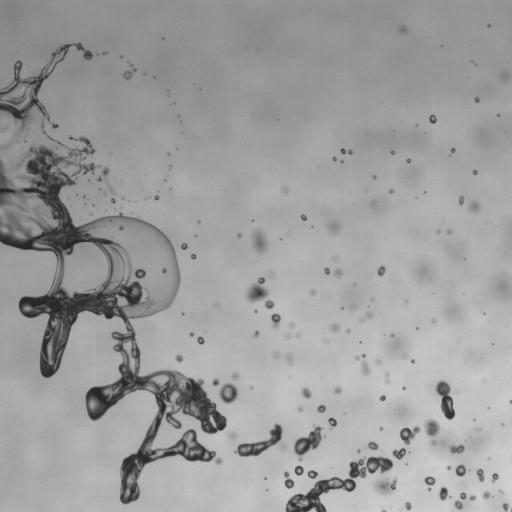droplet: (0, 42, 92, 147), (373, 477, 396, 495), (251, 228, 267, 252), (400, 426, 420, 445), (219, 383, 237, 403), (424, 418, 439, 437), (327, 220, 340, 234), (438, 486, 450, 500), (270, 313, 281, 328), (392, 448, 407, 459), (424, 476, 435, 490), (449, 444, 465, 453), (455, 464, 467, 476), (123, 68, 136, 79), (468, 201, 480, 212), (361, 361, 370, 375), (301, 387, 311, 398), (367, 441, 378, 450), (476, 469, 484, 481), (328, 418, 337, 428), (294, 465, 303, 475), (307, 470, 318, 478), (285, 353, 292, 365), (333, 268, 342, 277), (265, 300, 274, 309), (330, 323, 339, 332), (227, 431, 236, 440), (502, 502, 511, 511), (377, 266, 385, 276), (317, 404, 326, 412), (500, 72, 508, 80), (196, 336, 204, 344), (175, 354, 183, 362), (483, 491, 491, 499), (429, 114, 436, 123), (399, 26, 407, 33), (212, 378, 219, 386), (458, 196, 464, 205), (492, 473, 498, 482), (334, 386, 341, 393), (282, 186, 288, 194), (405, 502, 411, 510), (324, 267, 330, 274), (232, 372, 238, 379), (340, 148, 346, 154), (181, 243, 187, 249), (289, 322, 295, 328), (253, 331, 259, 337), (285, 333, 291, 339), (301, 214, 306, 220), (332, 255, 338, 260), (380, 395, 385, 401), (430, 440, 436, 445), (110, 198, 115, 203), (191, 254, 196, 259), (310, 290, 315, 295), (273, 352, 278, 357), (298, 406, 303, 411), (475, 97, 479, 102), (348, 149, 352, 154), (451, 148, 455, 153), (154, 195, 159, 199), (446, 230, 451, 234), (432, 318, 436, 323), (295, 333, 300, 337), (323, 338, 328, 342), (375, 360, 380, 364), (390, 150, 394, 154), (406, 158, 410, 162), (473, 170, 477, 174), (389, 189, 393, 193), (237, 233, 241, 237), (189, 332, 193, 336), (446, 466, 450, 470), (381, 508, 386, 511), (332, 157, 336, 160), (373, 175, 376, 179), (346, 329, 350, 332), (379, 427, 383, 430), (357, 448, 360, 452), (463, 484, 466, 488), (110, 189, 113, 192), (411, 360, 414, 363), (103, 52, 106, 54), (168, 166, 171, 168), (437, 230, 439, 233), (254, 310, 257, 312), (391, 334, 393, 337), (402, 387, 405, 389), (509, 400, 511, 403), (340, 160, 342, 162), (198, 220, 200, 222), (182, 312, 184, 314), (250, 386, 252, 388), (473, 418, 475, 420)
ligament: (0, 136, 226, 504), (285, 455, 393, 511), (235, 424, 286, 456), (294, 425, 324, 461), (245, 271, 274, 301), (435, 380, 455, 419), (454, 492, 475, 509), (284, 471, 294, 489), (359, 311, 372, 322), (355, 354, 365, 360), (385, 373, 389, 383)
